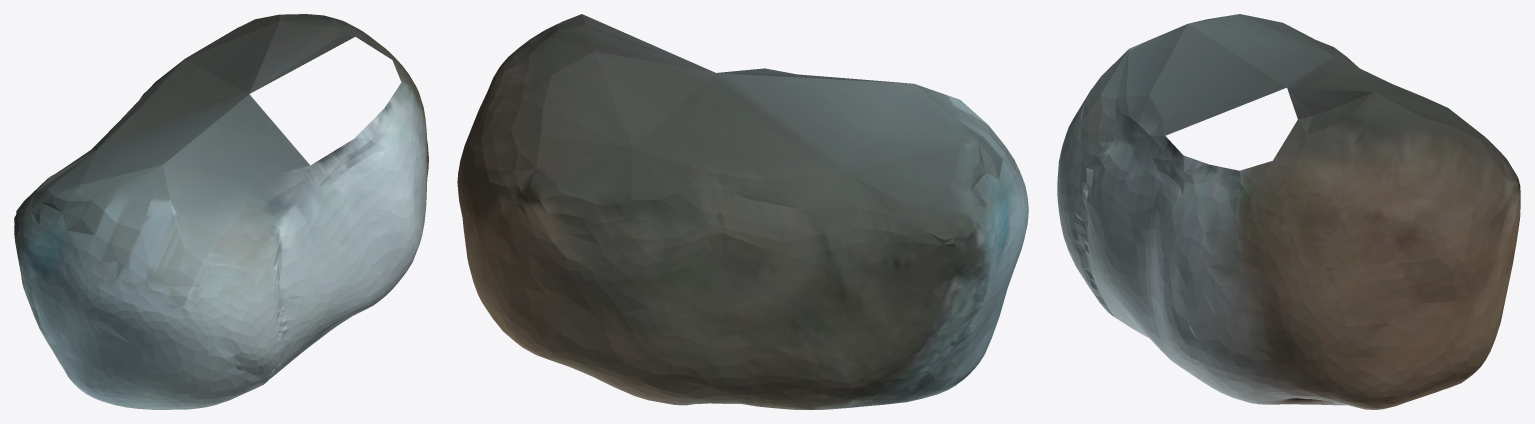
File: pierre1.glb
The picture shows the model from 3 angles, left to right: view 1: azimuth 30°, elevation 25°; view 2: azimuth 150°, elevation 25°; view 3: azimuth 270°, elevation 25°; orthographic projection. The views are drawn at different scales.
Size of the model in its own units: 0.177 by 0.1137 by 0.1442.
1 material, 1 textured.
